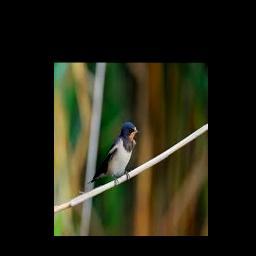Swallow: (88, 122, 141, 185)
